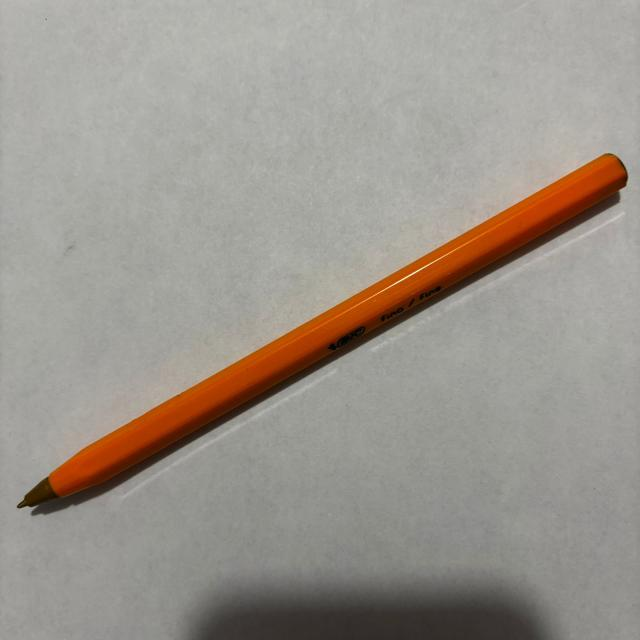pencil: (21, 154, 630, 518)
